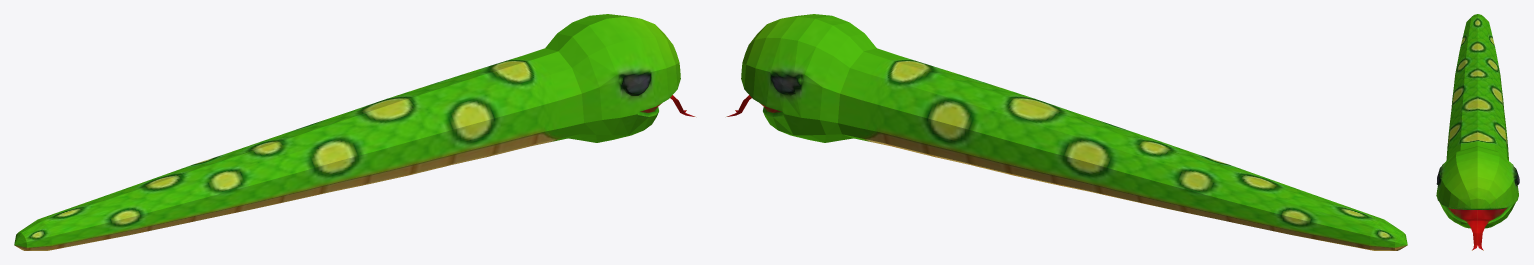
Rendered from slowworm.glb.
3 renders of one model, left to right at view 1: azimuth 30°, elevation 25°; view 2: azimuth 150°, elevation 25°; view 3: azimuth 270°, elevation 25°, orthographic. The views are drawn at different scales.
Size of the model in its own units: 2.5 by 0.408 by 0.4164.
1 material, 1 textured.
